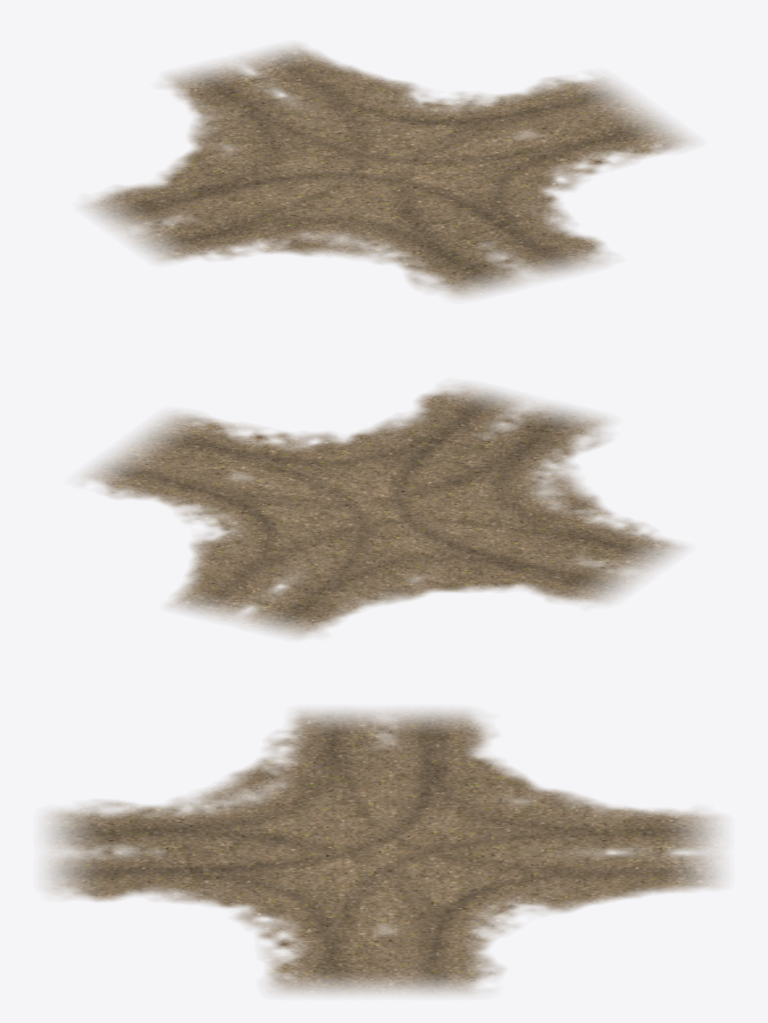
The model's file is road_cross_drive_drive.glb.
3 views of the same model, one above another, from view 1: azimuth 30°, elevation 25°; view 2: azimuth 150°, elevation 25°; view 3: azimuth 270°, elevation 25° (orthographic). The views are drawn at different scales.
Visible parts, largest first — view 1: road_cross_drive_drive; view 2: road_cross_drive_drive; view 3: road_cross_drive_drive.
Part boxes in pixels (left/top/right/bottom): road_cross_drive_drive: left=84, top=44, right=692, bottom=298; road_cross_drive_drive: left=82, top=383, right=684, bottom=638; road_cross_drive_drive: left=46, top=710, right=721, bottom=994.
Bounding box in the file's own units: 11.25 × 0 × 11.25.
1 material, 1 textured.
